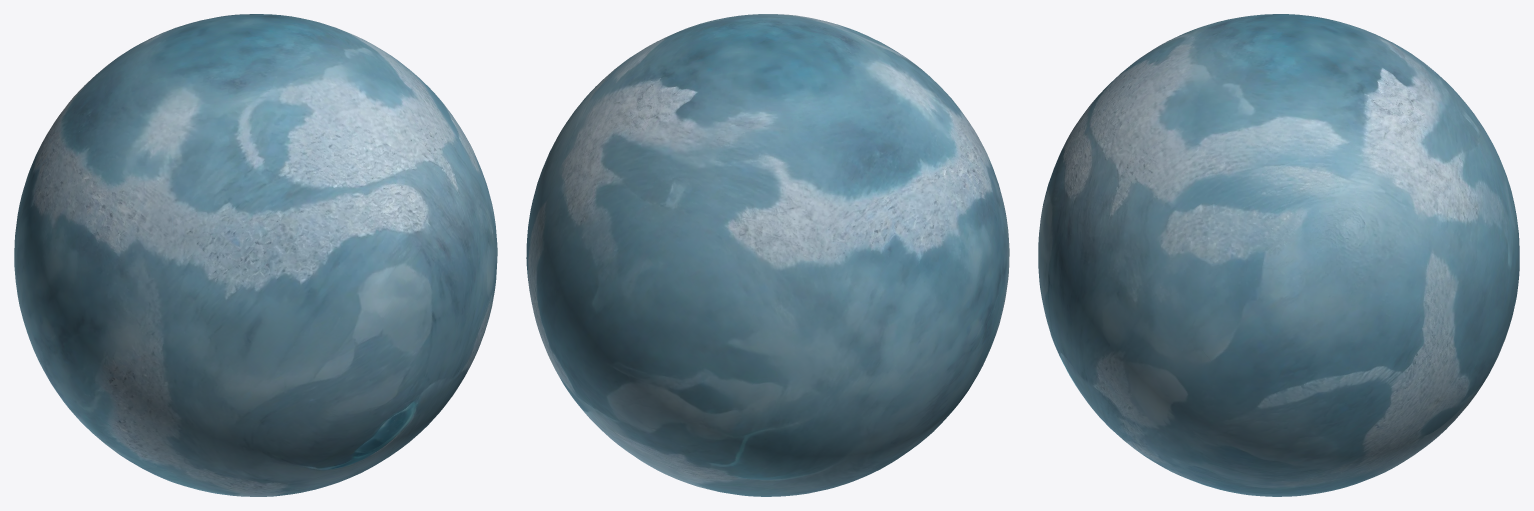
File: ice_planet_2.glb
The picture shows the model from 3 angles, left to right: view 1: azimuth 30°, elevation 25°; view 2: azimuth 150°, elevation 25°; view 3: azimuth 270°, elevation 25°; orthographic projection.
Parts seen in each view (by area): view 1: Mesh_0.027; view 2: Mesh_0.027; view 3: Mesh_0.027.
Boxes of the visible parts, <box> form: Mesh_0.027: <box>14,14,497,496</box>; Mesh_0.027: <box>526,14,1009,496</box>; Mesh_0.027: <box>1038,14,1519,496</box>.
Bounding box in the file's own units: 2 × 2 × 2.
1 material, 1 textured.
